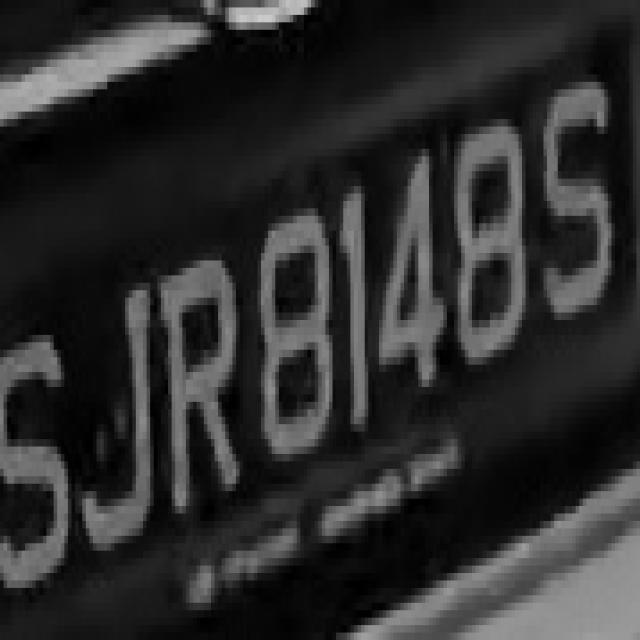1: (336, 156, 379, 462)
4: (354, 112, 447, 409)
8: (261, 186, 336, 491), (454, 104, 529, 372)
J: (82, 253, 161, 566)
R: (157, 230, 243, 550)
S: (4, 283, 82, 603), (533, 45, 615, 342)
